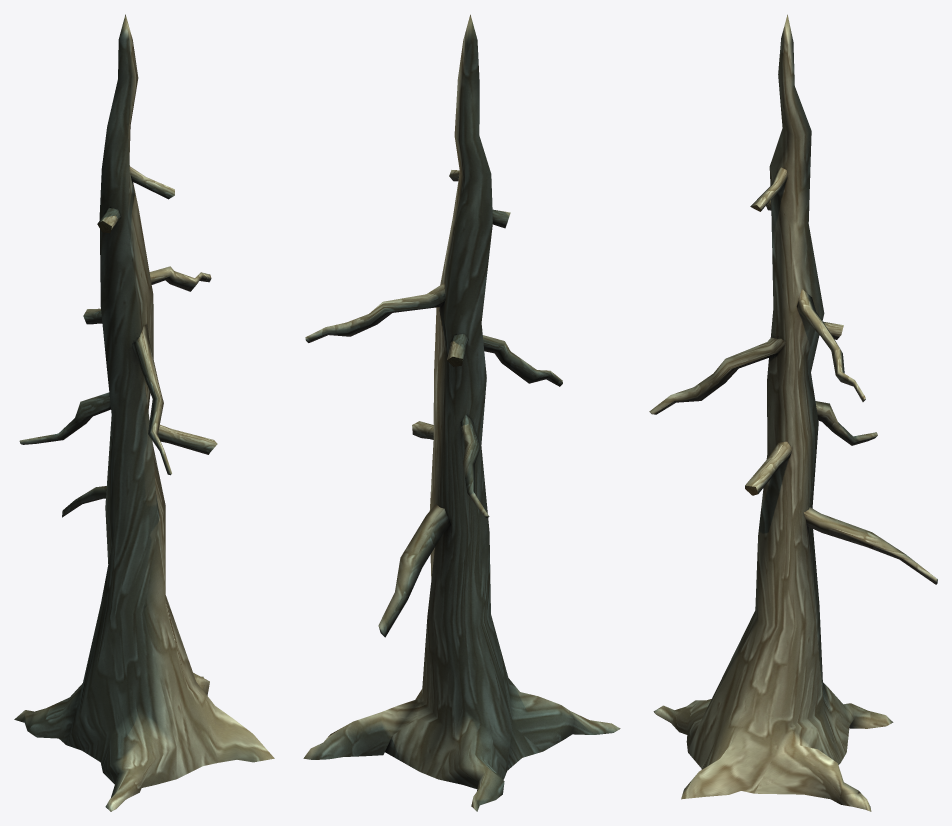
File: Mod_WM_Tree_Pine_10.fbx
The picture shows the model from 3 angles, left to right: view 1: azimuth 30°, elevation 25°; view 2: azimuth 150°, elevation 25°; view 3: azimuth 270°, elevation 25°; orthographic projection.
Visible parts, largest first — view 1: polySurface355; view 2: polySurface355; view 3: polySurface355.
Part boxes in pixels (x1=…): polySurface355: x1=14, y1=14, x2=274, y2=811; polySurface355: x1=303, y1=14, x2=620, y2=811; polySurface355: x1=649, y1=14, x2=937, y2=811.
Size of the model in its own units: 47.5 by 162 by 57.53.
Materials: 1 (1 with a texture image).
